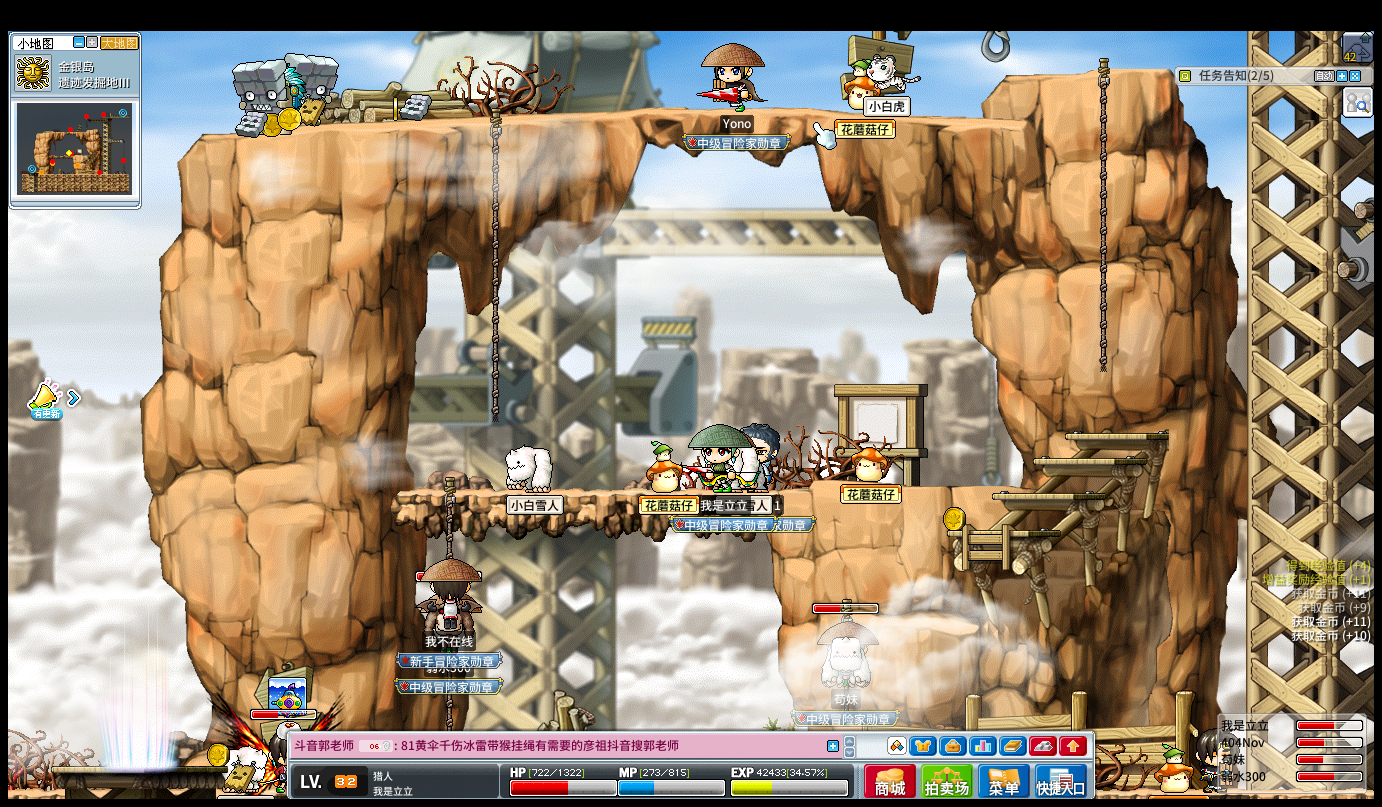floor: (200, 105, 1031, 138), (383, 487, 772, 499), (843, 613, 981, 635), (1002, 67, 1173, 79), (899, 481, 1026, 492), (1063, 429, 1170, 441), (943, 528, 1059, 537), (1030, 456, 1147, 464), (993, 492, 1105, 499)
monster: (229, 57, 303, 136), (298, 54, 340, 122)
rope: (1096, 55, 1111, 370), (489, 104, 501, 428), (440, 476, 455, 559)
